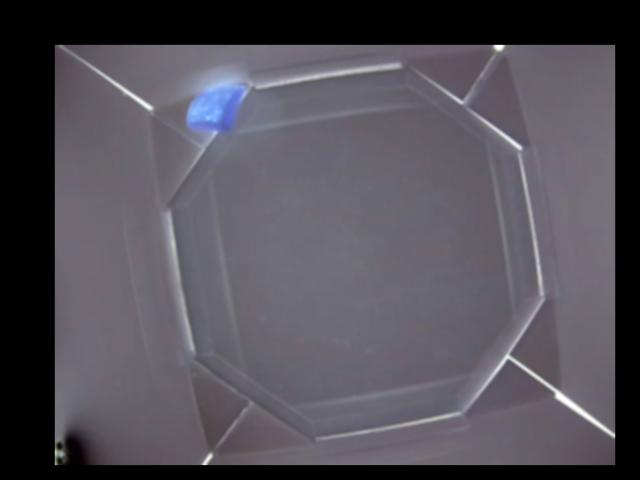Potato: (186, 85, 247, 129)
